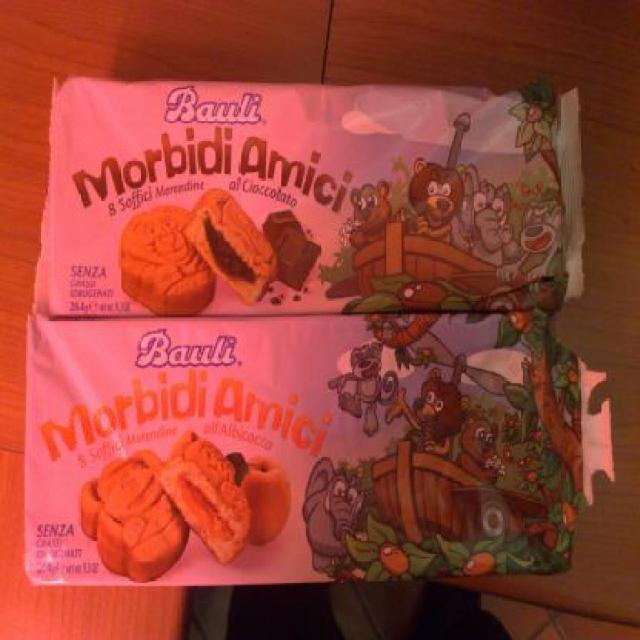Merendine: (16, 315, 599, 583), (34, 74, 597, 316)
